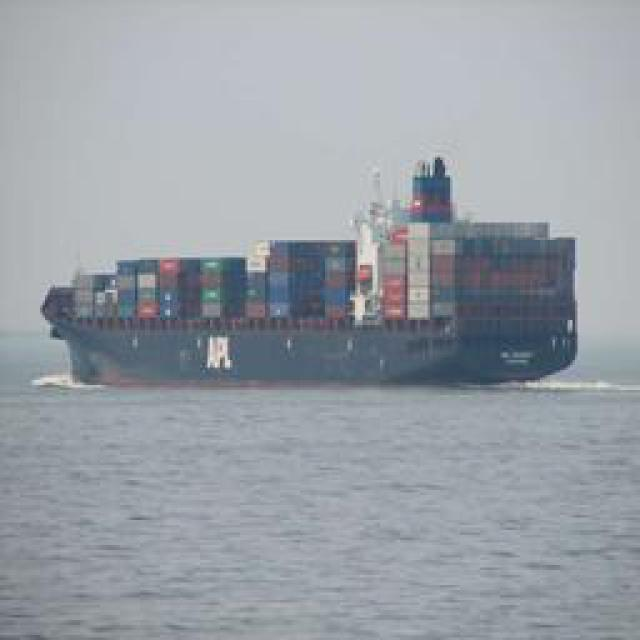Ship: (36, 220, 579, 390)
